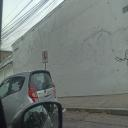NoEstacionar: (42, 48, 50, 65)
